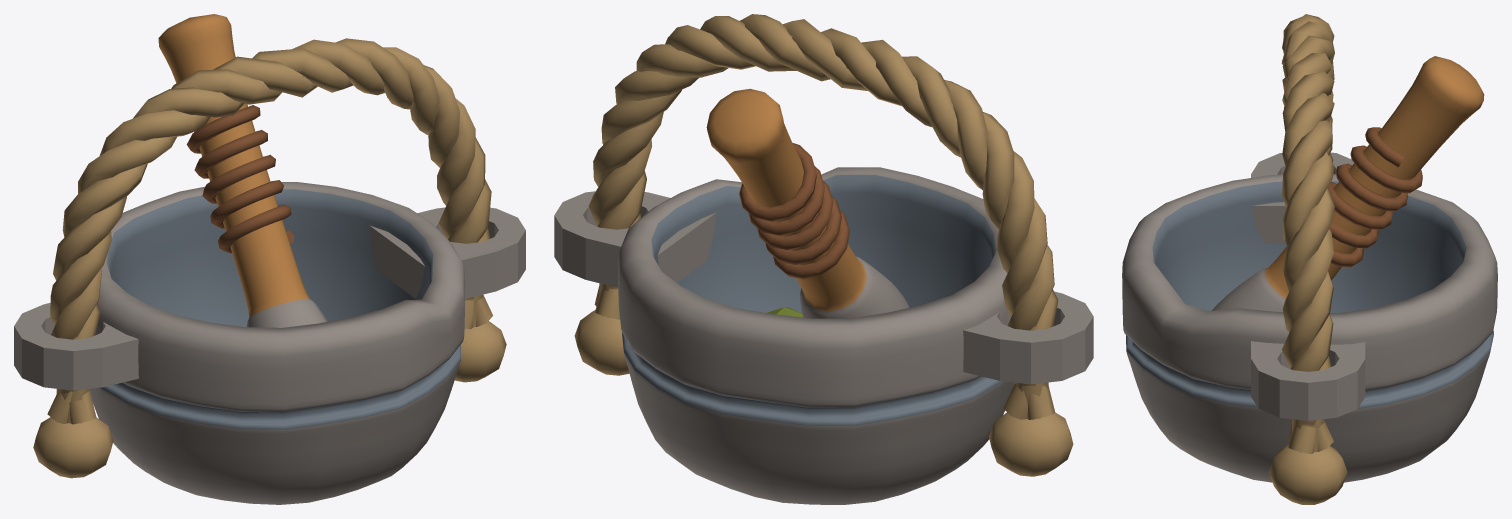
File: tool_mortarpestle.fbx
3 views of the same model, side by side, from view 1: azimuth 30°, elevation 25°; view 2: azimuth 150°, elevation 25°; view 3: azimuth 270°, elevation 25° (orthographic). The views are drawn at different scales.
Visible parts, largest first — view 1: Tool_MortarPestle_Bowl, Tool_MortarPestle_Rope, Tool_MortarPestle_Pestle; view 2: Tool_MortarPestle_Bowl, Tool_MortarPestle_Rope, Tool_MortarPestle_Pestle; view 3: Tool_MortarPestle_Bowl, Tool_MortarPestle_Rope, Tool_MortarPestle_Pestle.
Part boxes in pixels (<box>): Tool_MortarPestle_Bowl: <box>14,182,525,504</box>; Tool_MortarPestle_Rope: <box>33,38,506,478</box>; Tool_MortarPestle_Pestle: <box>158,14,327,327</box>; Tool_MortarPestle_Bowl: <box>554,167,1093,504</box>; Tool_MortarPestle_Rope: <box>574,14,1073,476</box>; Tool_MortarPestle_Pestle: <box>706,88,909,318</box>; Tool_MortarPestle_Bowl: <box>1122,152,1497,482</box>; Tool_MortarPestle_Rope: <box>1269,14,1347,504</box>; Tool_MortarPestle_Pestle: <box>1211,56,1484,311</box>.
Size of the model in its own units: 32.8 by 25.94 by 22.36.
